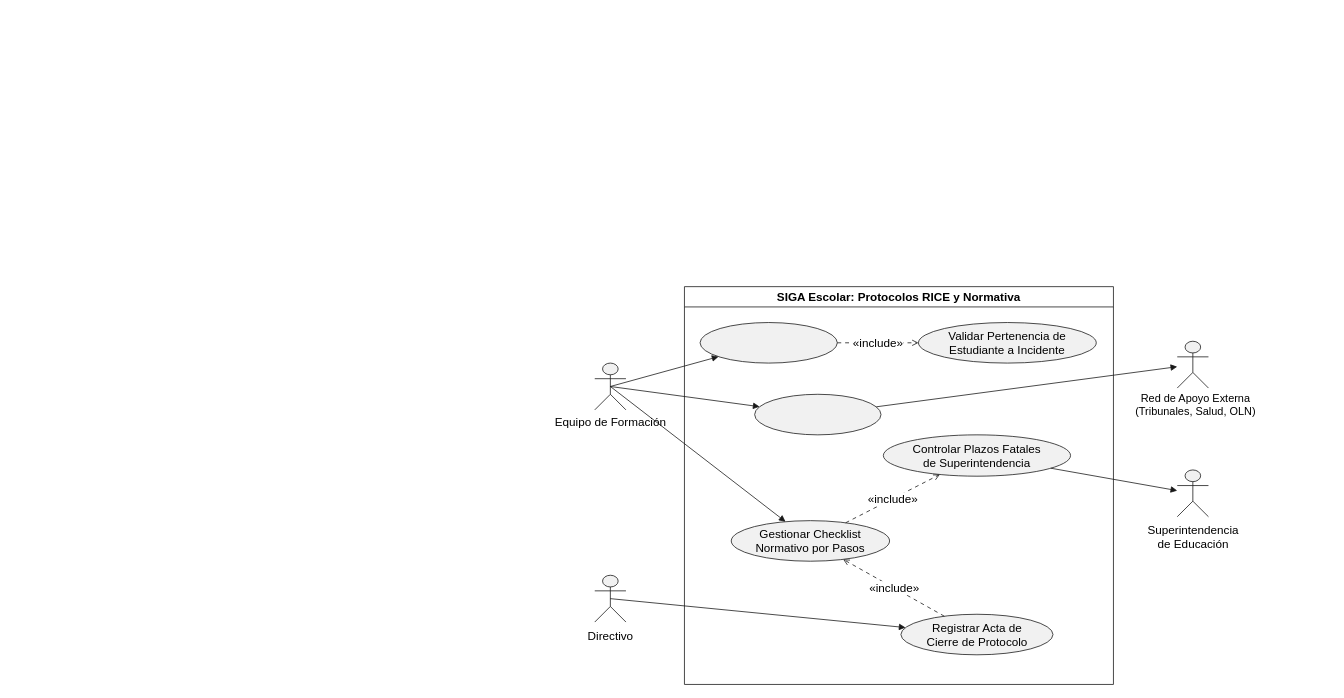
The diagram is 1344 pixels wide and 698 high, and some of its shapes have lost their labels. The shapes that lost their labels are listed below. From the top down, each one's centre as x and y in pixels, then its label:
the point at 768,342: Activar Protocolo Normativo RICE
the point at 817,414: Derivar Caso a Entidad Externa
